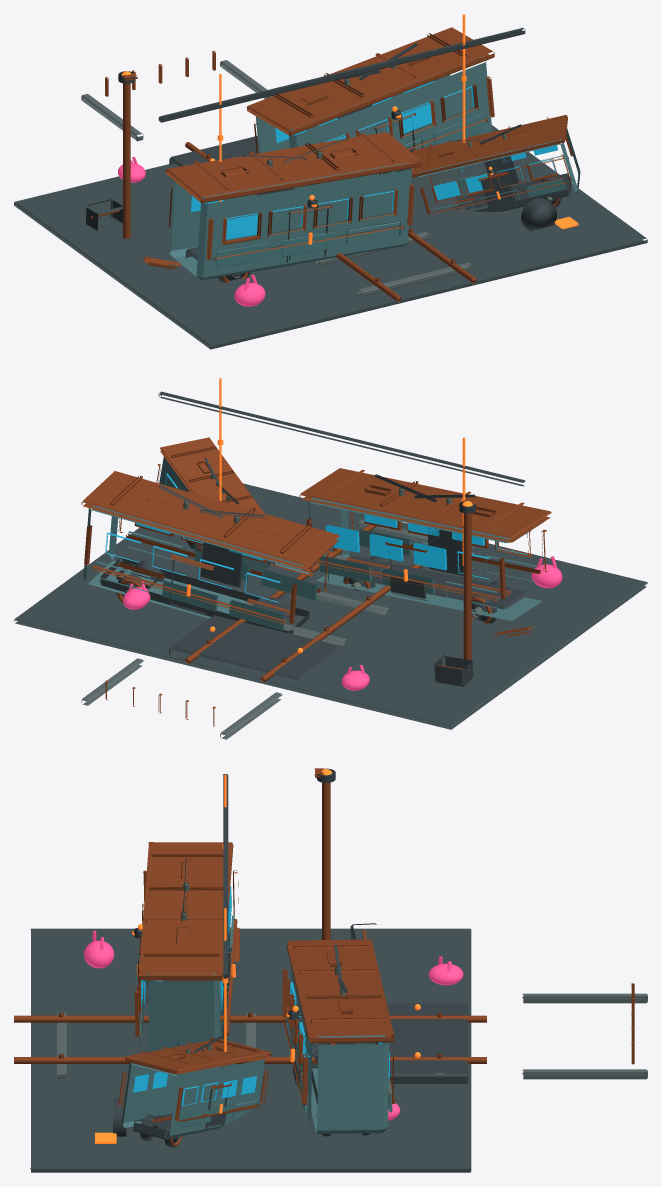
File: tram_graveyard.gltf
The picture shows the model from 3 angles, top to bottom: view 1: azimuth 30°, elevation 25°; view 2: azimuth 150°, elevation 25°; view 3: azimuth 270°, elevation 25°; orthographic projection. The views are drawn at different scales.
Parts seen in each view (by area): view 1: TramYardDeck, TramCarriageABody, TramCarriageARoof, TramCarriageBRoof, TramCarriageBBody, TramWreckCarriageRoof, TramOverheadBeam, TramSignalMast, TramMaintenancePit, TramWreckCarriageUndercarriage, TramCableReel0, TramCarriageASidePanelFront0 (+15 smaller); view 2: TramYardDeck, TramCarriageBRoof, TramCarriageARoof, TramMaintenancePit, TramWreckCarriageRoof, TramCarriageABody, TramCarriageBBody, TramOverheadBeam, TramCarriageBUndercarriage, TramCarriageAUndercarriage, TramCarriageBFrontDoor, TramSignalMast (+19 smaller); view 3: TramYardDeck, TramCarriageARoof, TramCarriageBRoof, TramCarriageBBody, TramWreckCarriageBody, TramMaintenancePit, TramCarriageABody, TramWreckCarriageRoof, TramRail0, TramRail1, TramSignalMast, TramPitEdgeR (+5 smaller).
Boxes of the visible parts, x1,y1,x2,y2 form: TramYardDeck: (14, 125, 647, 349); TramCarriageABody: (169, 162, 412, 280); TramCarriageARoof: (166, 132, 422, 203); TramCarriageBRoof: (246, 27, 494, 135); TramCarriageBBody: (255, 56, 492, 175); TramWreckCarriageRoof: (410, 115, 567, 177); TramOverheadBeam: (158, 28, 525, 122); TramSignalMast: (123, 83, 130, 238); TramMaintenancePit: (169, 136, 258, 166); TramWreckCarriageUndercarriage: (466, 173, 571, 211); TramCableReel0: (521, 198, 556, 231); TramCarriageASidePanelFront0: (215, 243, 269, 268); TramYardDeck: (14, 483, 647, 729); TramCarriageBRoof: (81, 471, 339, 570); TramCarriageARoof: (299, 468, 551, 542); TramMaintenancePit: (169, 615, 343, 680); TramWreckCarriageRoof: (160, 437, 264, 513); TramCarriageABody: (308, 497, 543, 620); TramCarriageBBody: (83, 505, 325, 636); TramOverheadBeam: (158, 391, 525, 486); TramCarriageBUndercarriage: (100, 558, 309, 633); TramCarriageAUndercarriage: (328, 555, 529, 619); TramCarriageBFrontDoor: (200, 542, 242, 587); TramSignalMast: (463, 513, 471, 659); TramYardDeck: (30, 928, 471, 1172); TramCarriageARoof: (138, 842, 233, 980); TramCarriageBRoof: (286, 939, 394, 1043); TramCarriageBBody: (290, 962, 389, 1133); TramWreckCarriageBody: (121, 1055, 264, 1138); TramMaintenancePit: (369, 1003, 468, 1083); TramCarriageABody: (146, 905, 230, 1051); TramWreckCarriageRoof: (125, 1039, 271, 1074); TramRail0: (14, 1015, 486, 1022); TramRail1: (14, 1057, 486, 1063); TramSignalMast: (322, 782, 330, 939); TramPitEdgeR: (522, 1069, 647, 1079).
Size of the model in its own units: 18 by 7.98 by 20.1.
